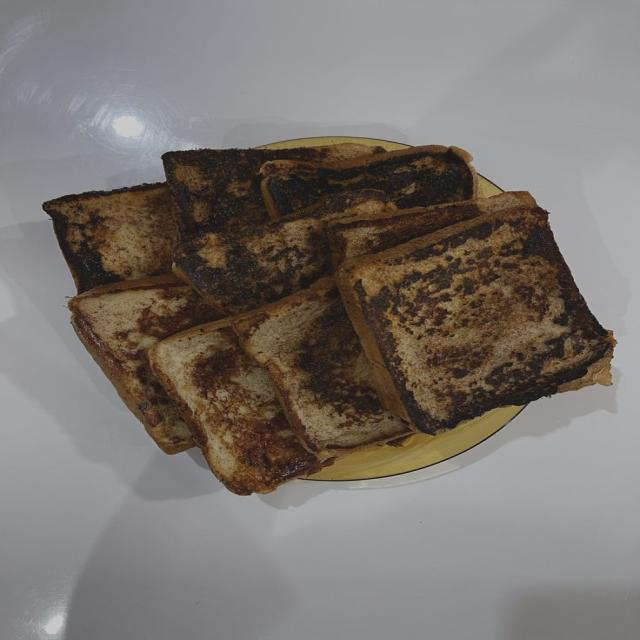toast bread: (337, 200, 615, 435), (148, 320, 331, 495), (235, 278, 409, 457), (69, 275, 220, 453), (163, 144, 383, 236), (329, 191, 536, 271), (43, 183, 178, 293), (261, 147, 476, 215)
